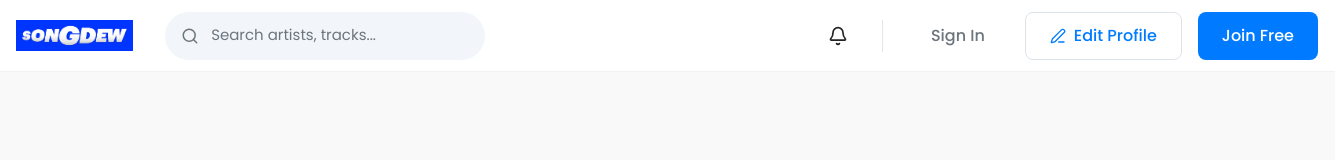
Test: Navbar Edit Toggle › toggles to view profile when clicked
Step 1. Click the button "Edit Profile" → (1103, 36), box [1025, 12, 1182, 60]
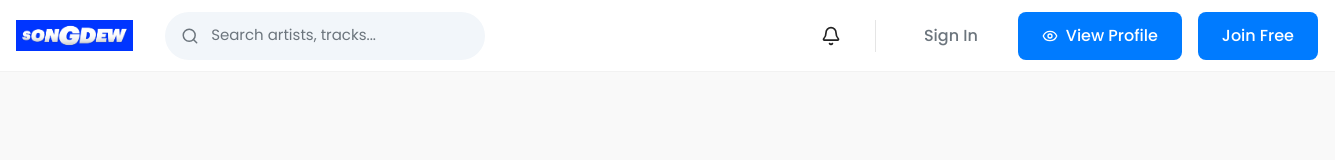
Now the button "View Profile" is shown, box [1018, 12, 1182, 60]
